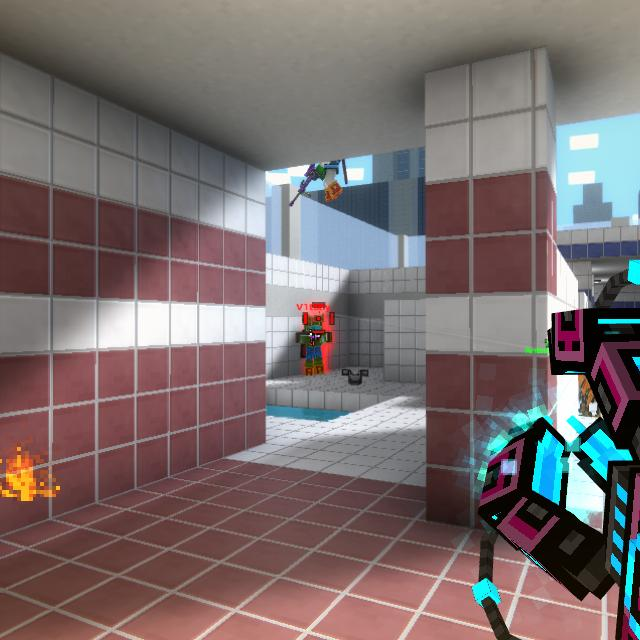Enemy: (296, 315, 333, 376)
